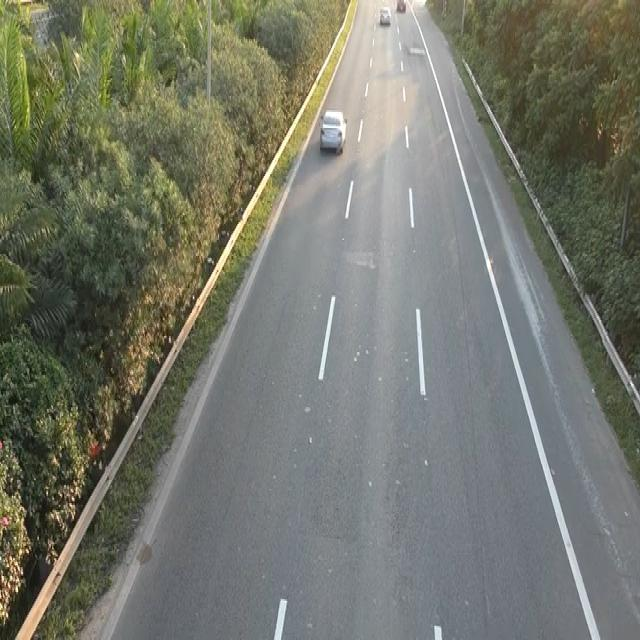bus: (317, 105, 350, 160), (378, 3, 391, 25), (395, 0, 406, 12)
